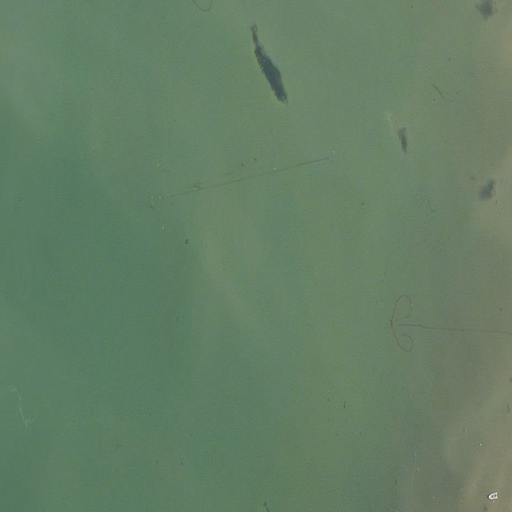ship: (488, 492, 496, 502)
